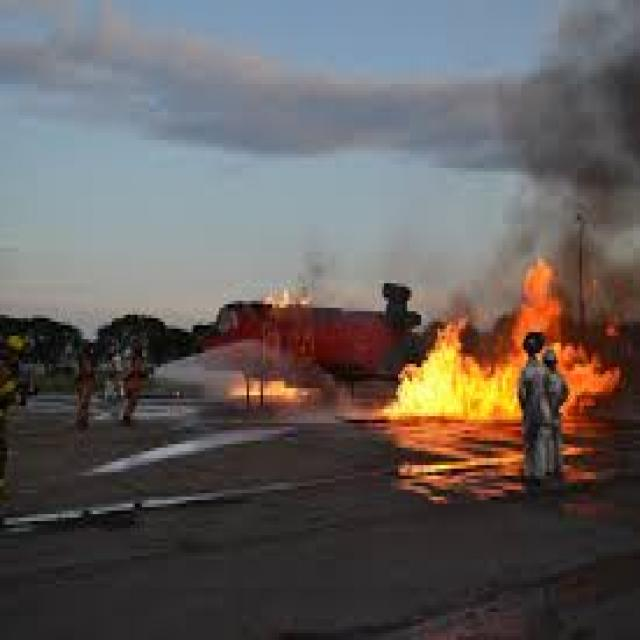fire: (377, 314, 519, 426), (558, 332, 622, 416), (514, 255, 566, 332)
smoke: (444, 3, 640, 321)
